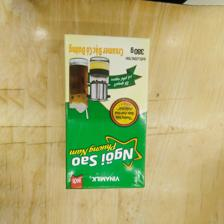NSPN_Hop: (62, 31, 147, 191)
